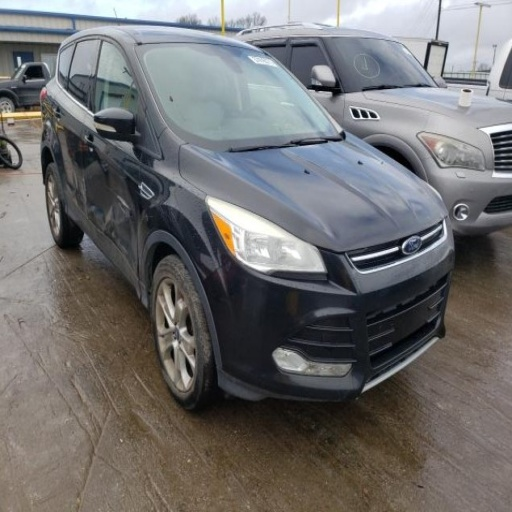dent: (63, 172, 150, 307)
scratch: (65, 173, 86, 209), (115, 191, 131, 216)
